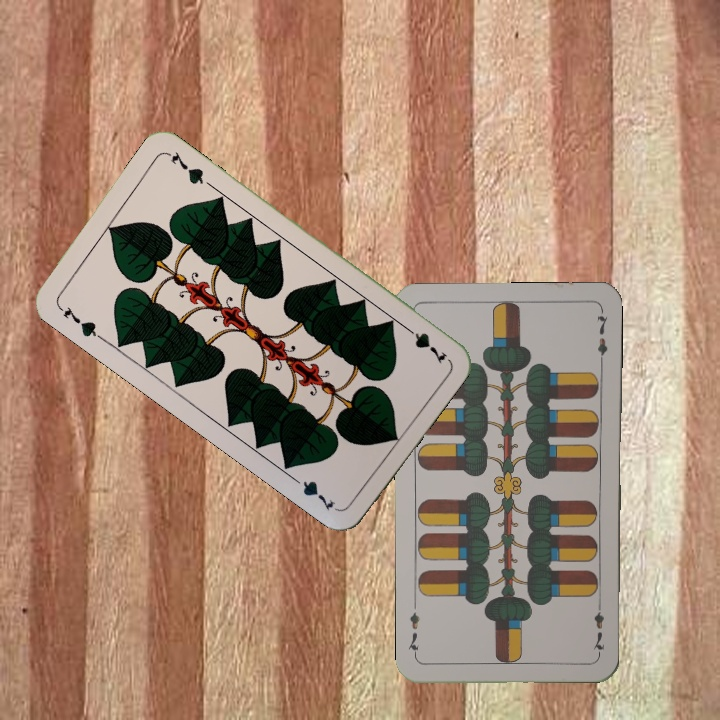E7: (588, 597, 607, 656)
G7: (399, 321, 450, 366), (54, 301, 105, 342)
